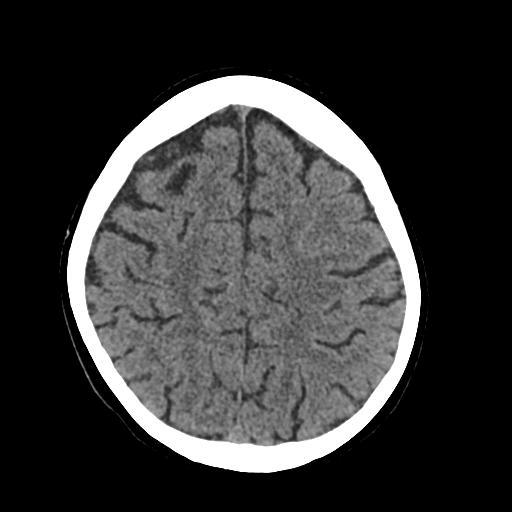Cancer: (153, 162, 231, 195)
